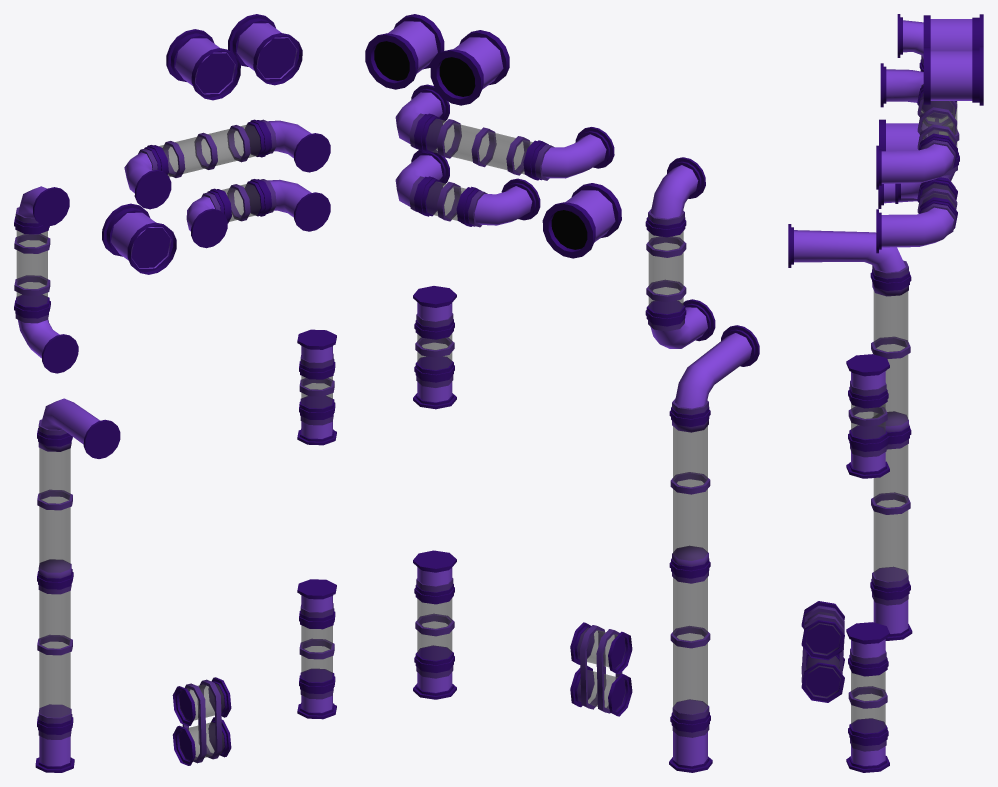
The model's file is SM_pipe_1.fbx.
3 views of the same model, side by side, from view 1: azimuth 30°, elevation 25°; view 2: azimuth 150°, elevation 25°; view 3: azimuth 270°, elevation 25° (orthographic). The views are drawn at different scales.
Parts seen in each view (by area): view 1: SM_pipe_1; view 2: SM_pipe_1; view 3: SM_pipe_1.
Part boxes in pixels (box(x1,y1,x2,y2)): SM_pipe_1: box(14, 14, 336, 772); SM_pipe_1: box(365, 14, 759, 772); SM_pipe_1: box(788, 14, 983, 772).
Bounding box in the file's own units: 22.23 × 48.87 × 12.19.
